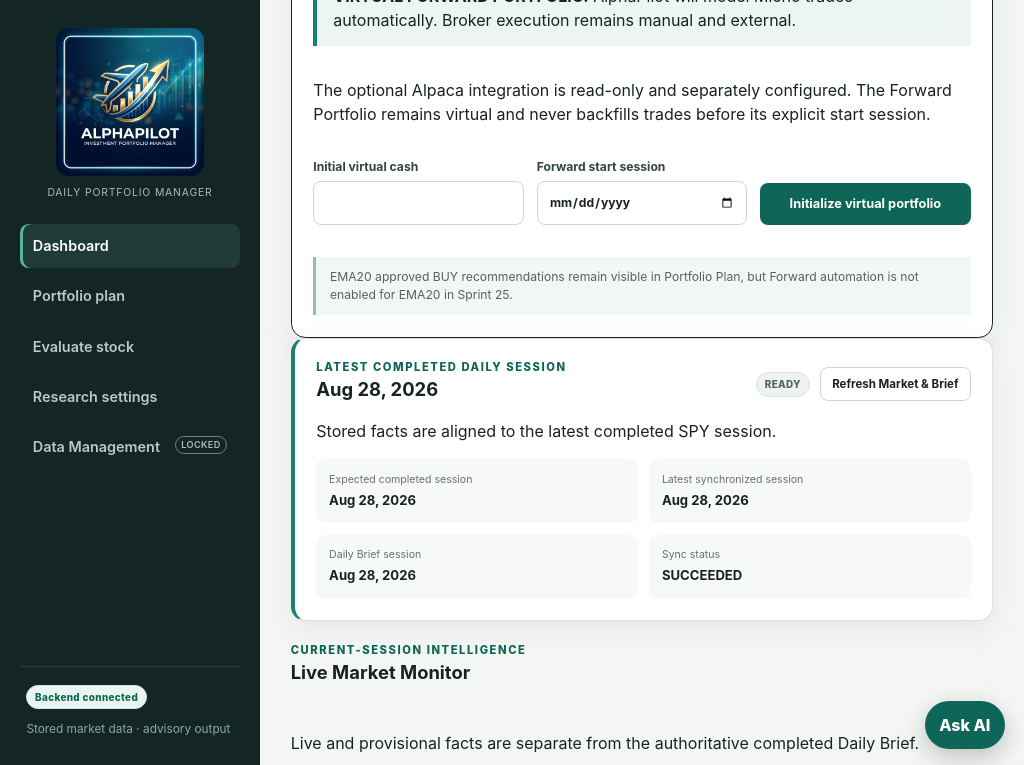
Test: refresh loads open-position live intelligence and refetches the daily brief without syncing
(page scrolled)
Click the button "Refresh Market & Brief": coordinates (895, 384) x1=820 y1=367 x2=971 y2=401
(page scrolled)
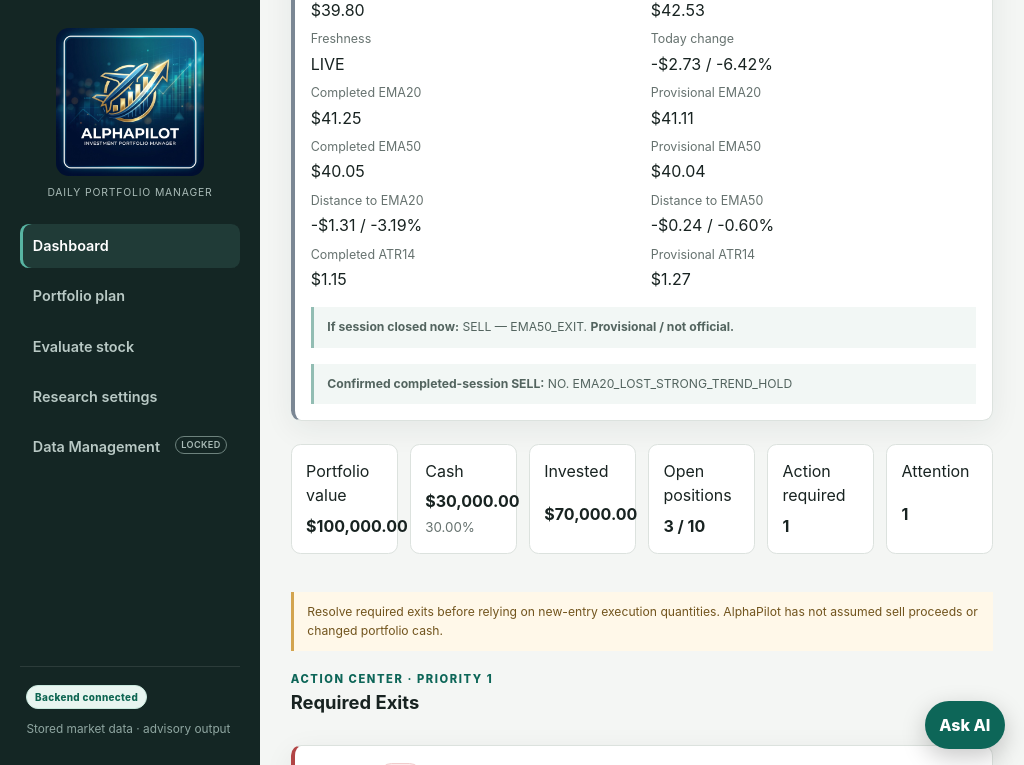
Expected: the text "Completed EMA20" is shown, x1=311 y1=85 x2=421 y2=100
Expected: the text "$41.25" is shown, x1=311 y1=108 x2=361 y2=128
Expected: the text "Provisional EMA20" is shown, x1=651 y1=85 x2=761 y2=100
